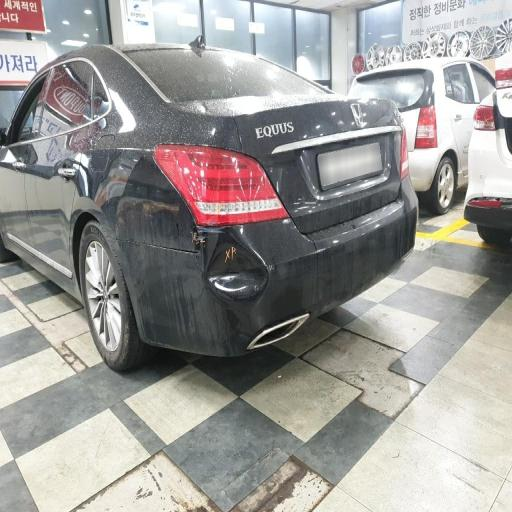dent: (198, 226, 275, 310), (58, 147, 111, 219)
scratch: (148, 123, 419, 227)
